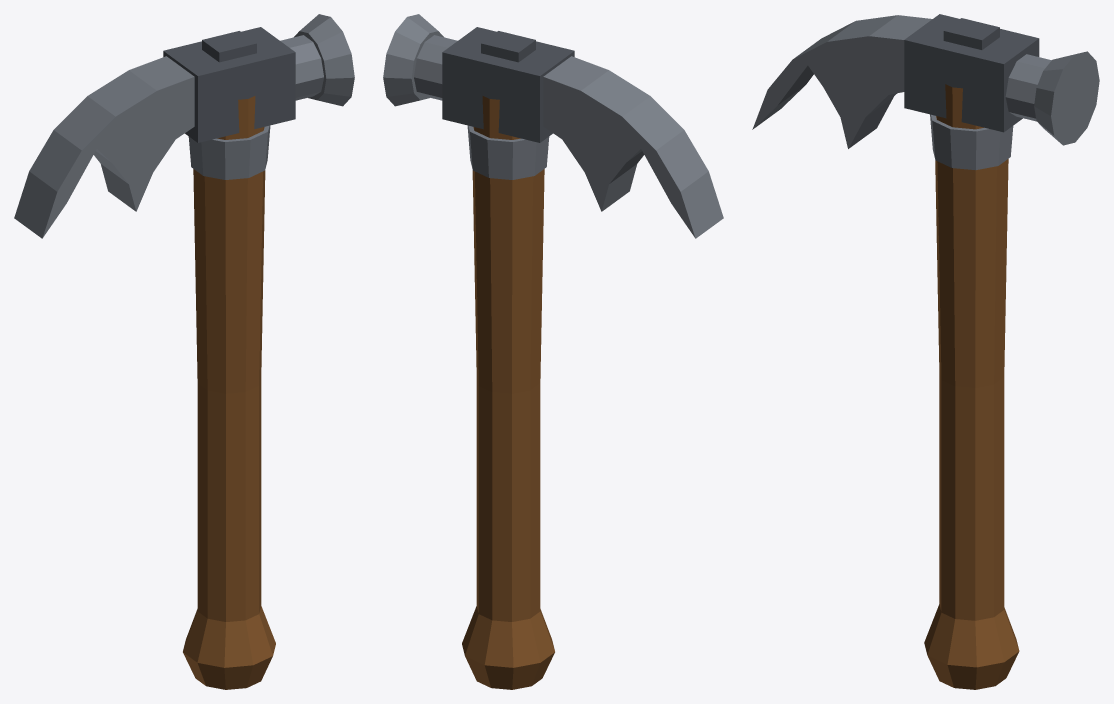
File: hammer-fa3e51.glb
The picture shows the model from 3 angles, left to right: view 1: azimuth 30°, elevation 25°; view 2: azimuth 150°, elevation 25°; view 3: azimuth 330°, elevation 25°; orthographic projection.
Parts seen in each view (by area): view 1: claw-hammer; view 2: claw-hammer; view 3: claw-hammer.
Boxes of the visible parts, <box> form: claw-hammer: <box>14,14,354,689</box>; claw-hammer: <box>383,14,723,689</box>; claw-hammer: <box>752,14,1099,689</box>.
Bounding box in the file's own units: 0.161 × 0.322 × 0.044.
